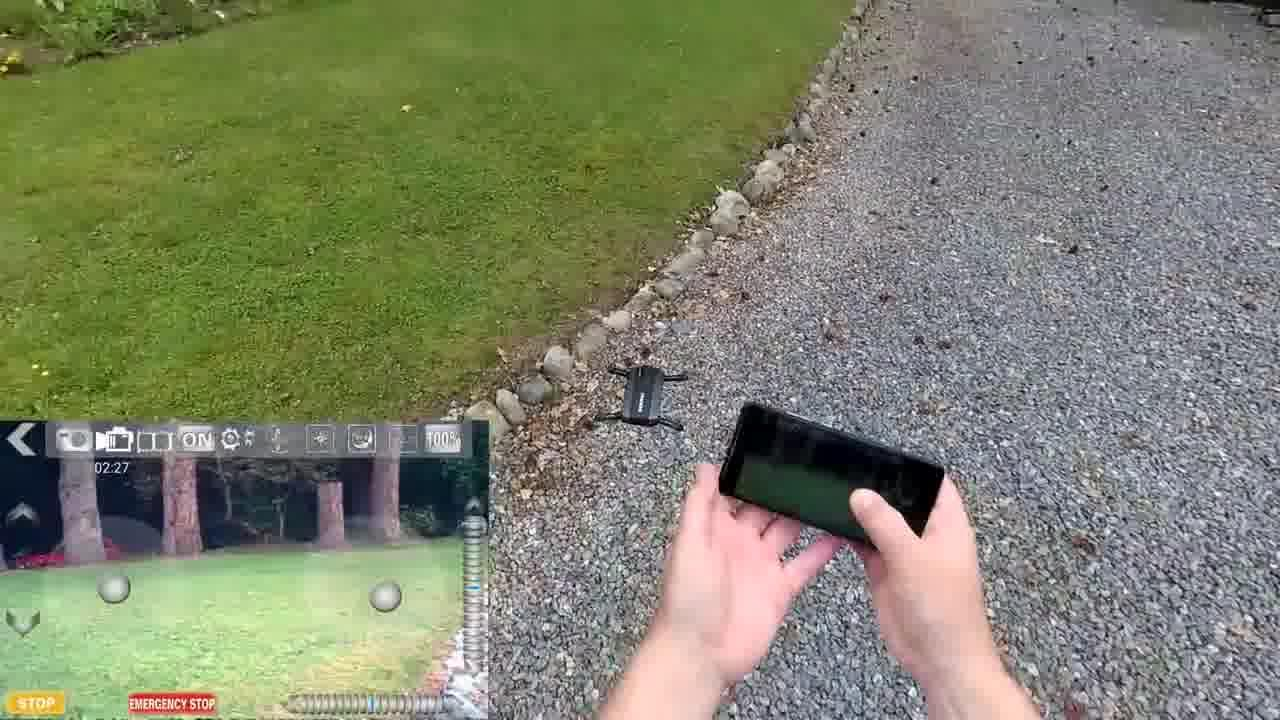drone: (595, 350, 691, 435)
